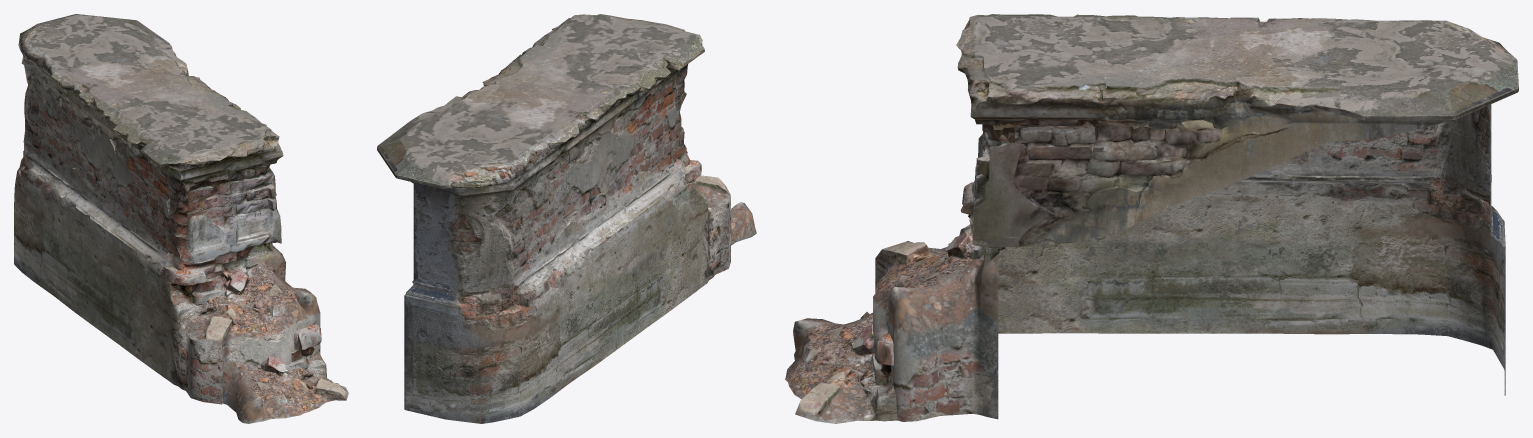
Rendered from sm_ChapelWall_03_01.fbx.
3 views of the same model, side by side, from view 1: azimuth 30°, elevation 25°; view 2: azimuth 150°, elevation 25°; view 3: azimuth 270°, elevation 25° (orthographic). The views are drawn at different scales.
Parts seen in each view (by area): view 1: sm_ChapelWall_03_01_LOD0; view 2: sm_ChapelWall_03_01_LOD0; view 3: sm_ChapelWall_03_01_LOD0.
Part boxes in pixels (<box>): sm_ChapelWall_03_01_LOD0: <box>14,14,348,423</box>; sm_ChapelWall_03_01_LOD0: <box>377,14,756,423</box>; sm_ChapelWall_03_01_LOD0: <box>785,14,1518,423</box>.
Bounding box in the file's own units: 129 × 414 × 203.
